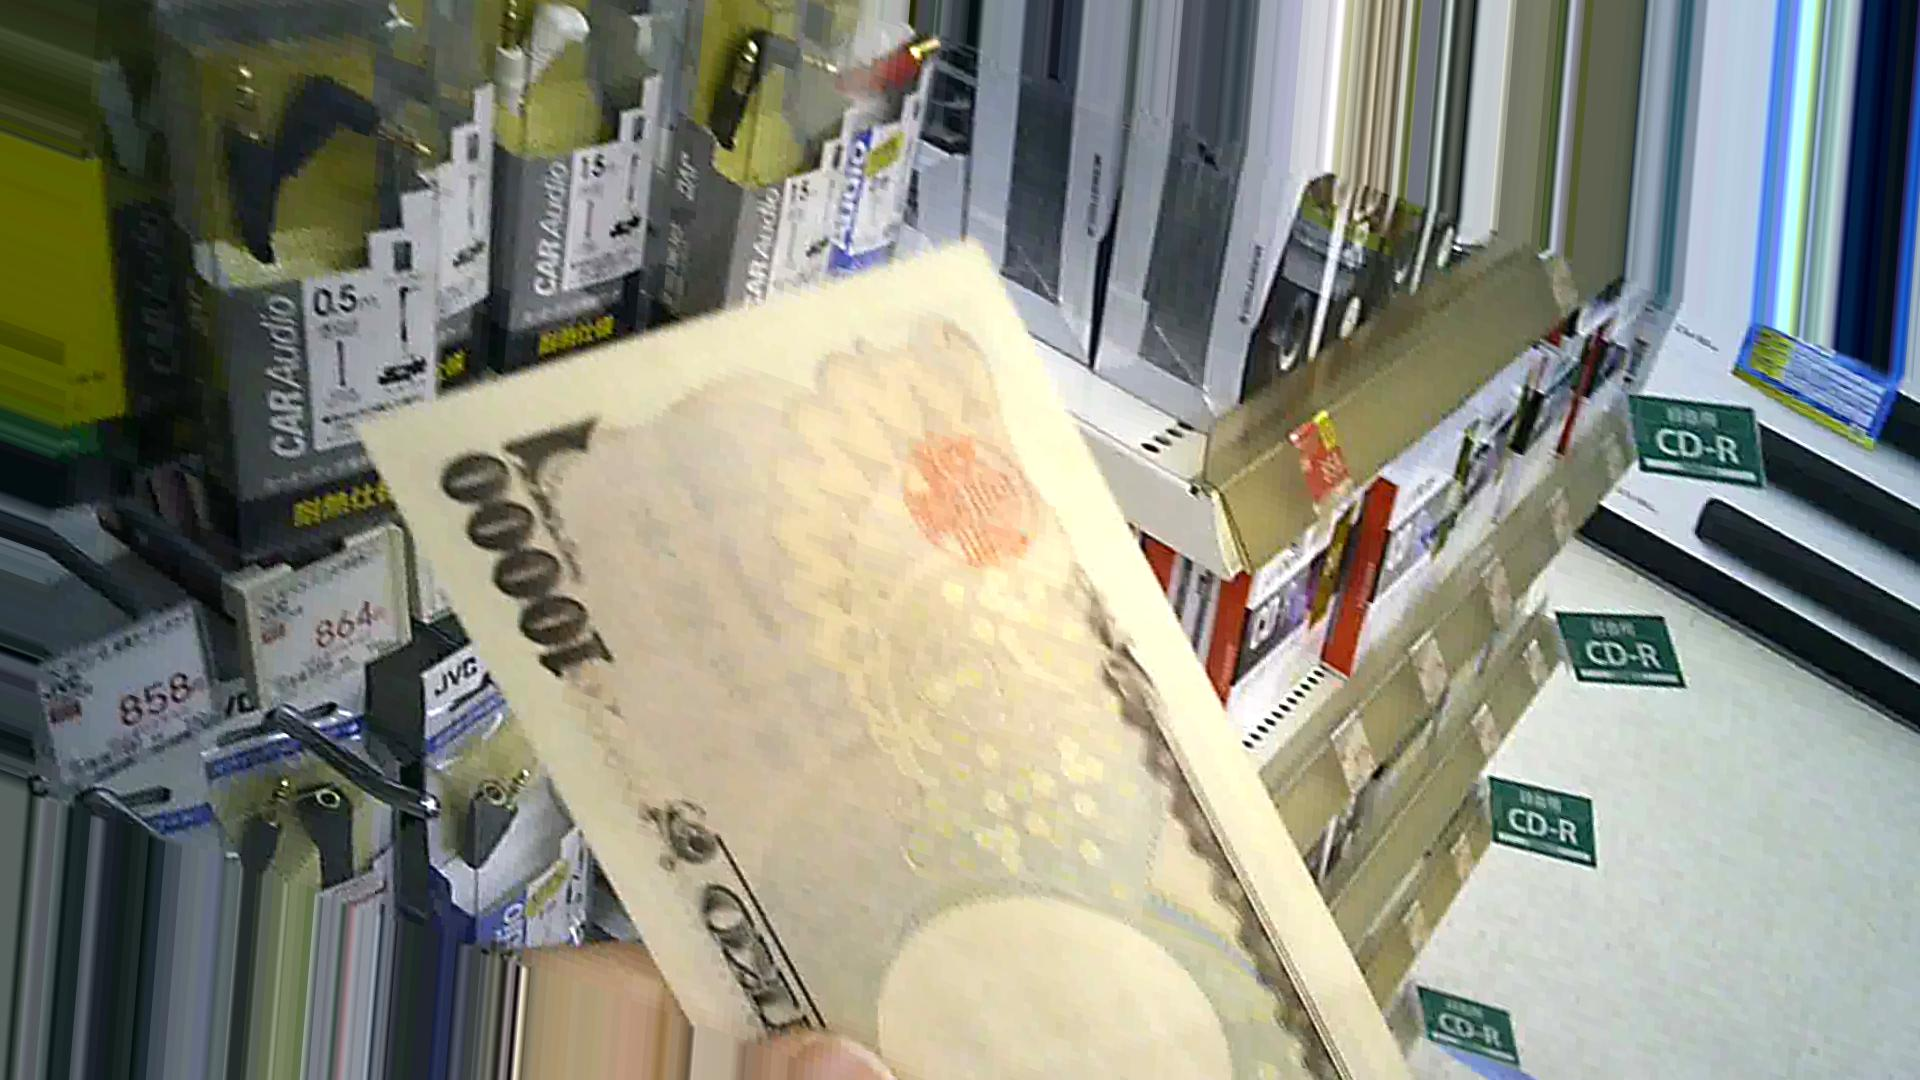10,000 Yen: (351, 276, 1379, 1079)
